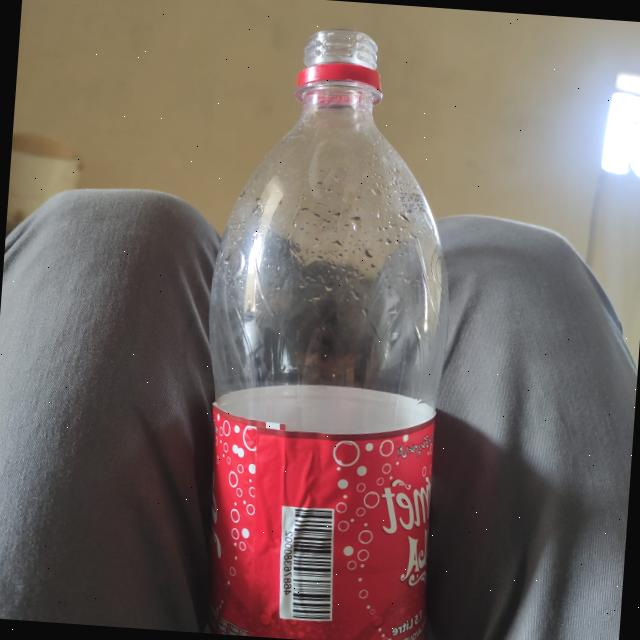bottle: (186, 9, 469, 640)
label: (184, 396, 442, 640)
